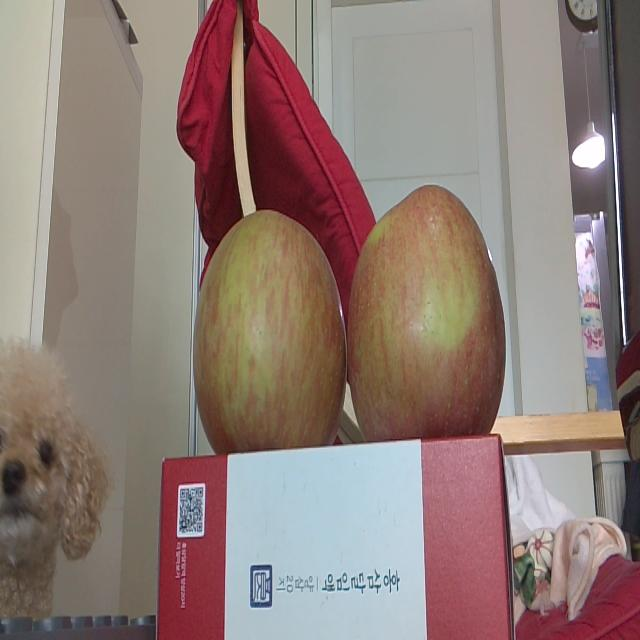apple: (351, 184, 505, 438), (194, 212, 348, 448)
